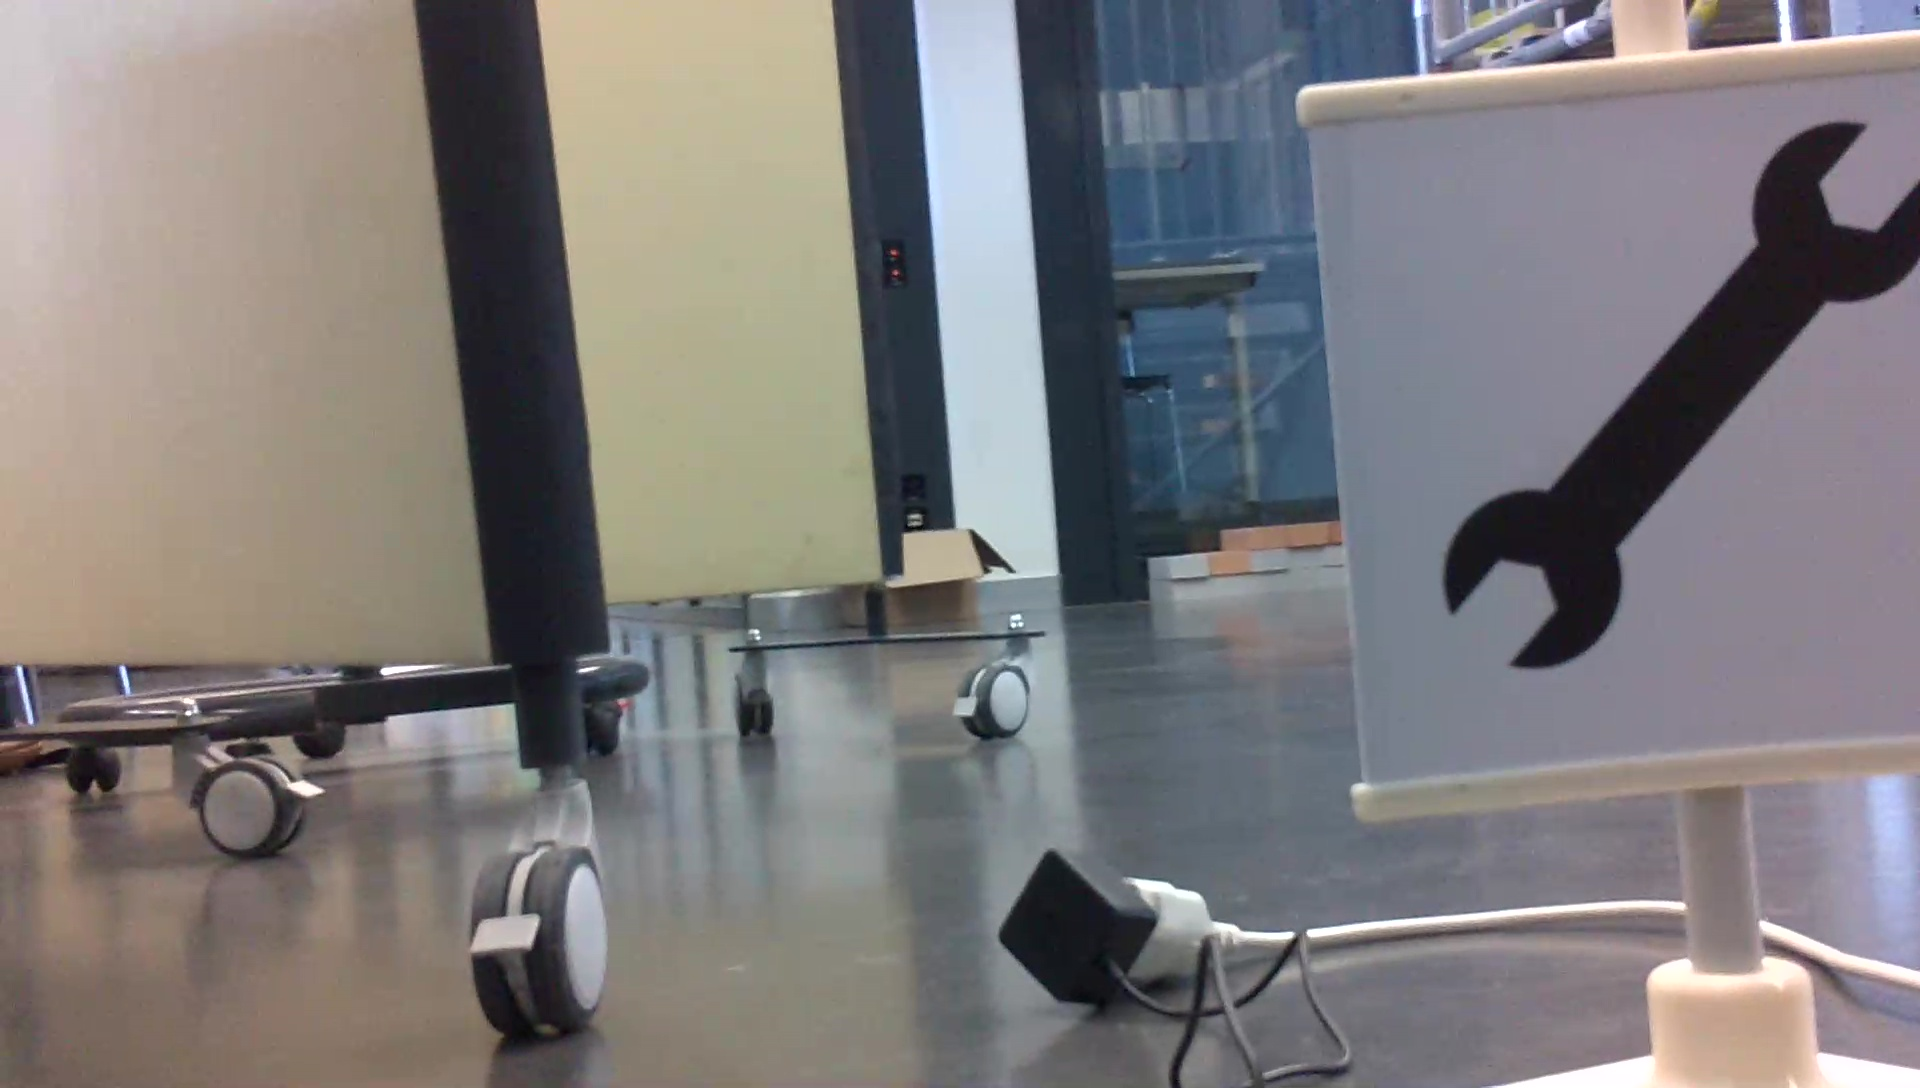wrench: (1432, 103, 1917, 680)
